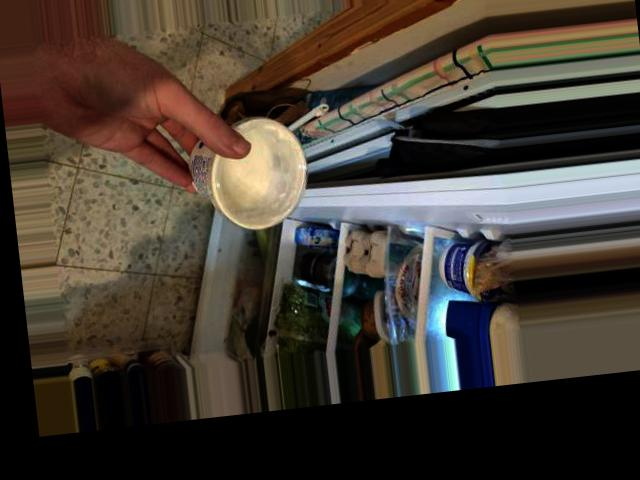cotage: (183, 107, 315, 215)
